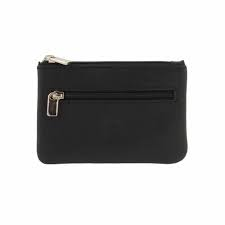monedero: (37, 55, 188, 164)
